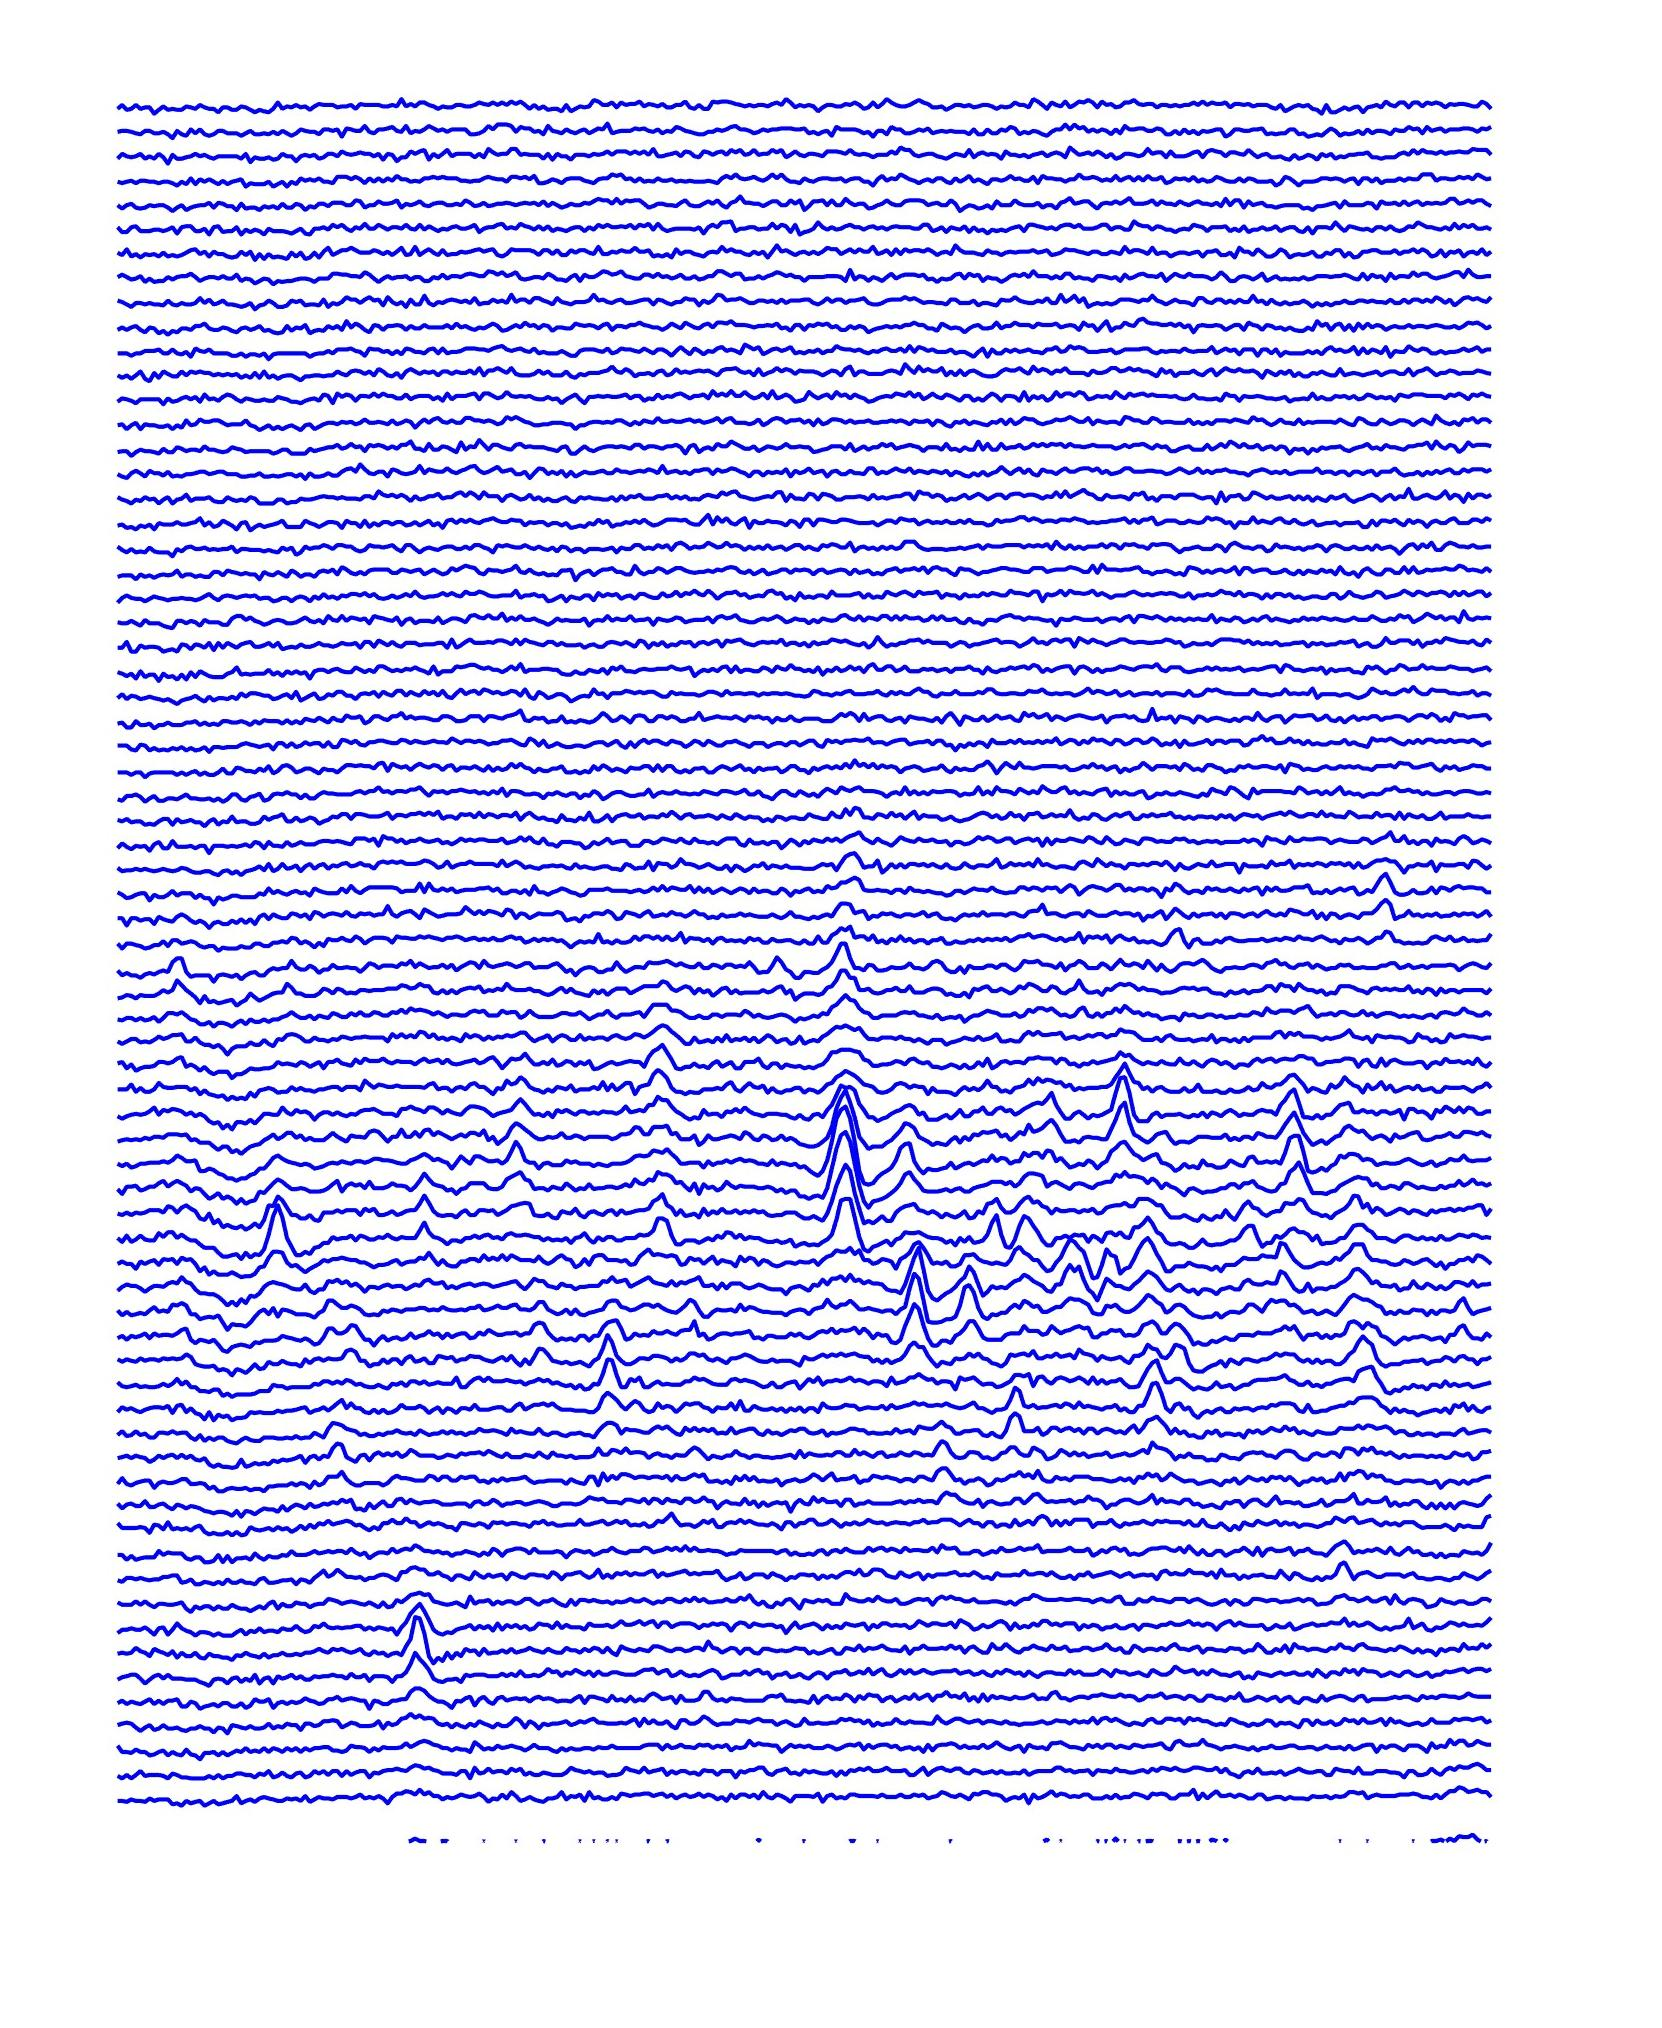defect: (1253, 1208, 1404, 1410), (812, 1085, 914, 1248), (807, 830, 882, 999), (1261, 1075, 1361, 1198), (485, 1048, 559, 1209), (1052, 1214, 1184, 1305), (896, 1233, 985, 1366), (584, 1304, 657, 1465), (1076, 1034, 1165, 1137), (1127, 1327, 1174, 1479), (633, 1006, 700, 1105), (396, 1150, 441, 1294), (397, 1587, 461, 1683), (1350, 859, 1413, 955), (249, 1187, 315, 1273), (919, 1420, 970, 1528), (1320, 1509, 1362, 1604), (1000, 1354, 1036, 1459)
